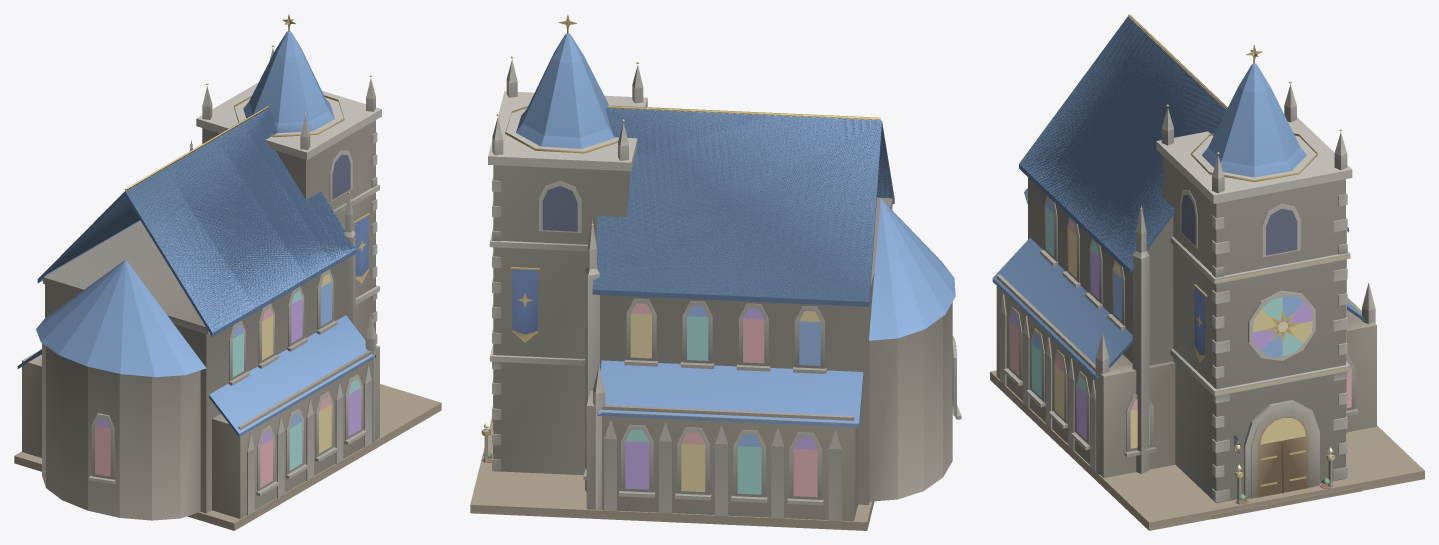
Rendered from church_lite.glb.
The picture shows the model from 3 angles, left to right: view 1: azimuth 30°, elevation 25°; view 2: azimuth 150°, elevation 25°; view 3: azimuth 270°, elevation 25°; orthographic projection. The views are drawn at different scales.
Visible parts, largest first — view 1: Church_stone, Church_roof, Church_glow, Church_props; view 2: Church_stone, Church_roof, Church_glow, Church_props; view 3: Church_stone, Church_roof, Church_glow, Church_props.
Part boxes in pixels (x1,y1,x2,y2): Church_stone: (14,48,441,530); Church_roof: (17,31,375,436); Church_glow: (95,20,360,487); Church_props: (125,14,380,283); Church_stone: (470,59,961,530); Church_roof: (516,33,955,427); Church_glow: (483,23,956,497); Church_props: (481,14,880,462); Church_stone: (990,84,1424,530); Church_roof: (992,16,1364,380); Church_glow: (1009,52,1351,470); Church_props: (1128,14,1350,504).
Bounding box in the file's own units: 18.83 × 17.98 × 16.51.
